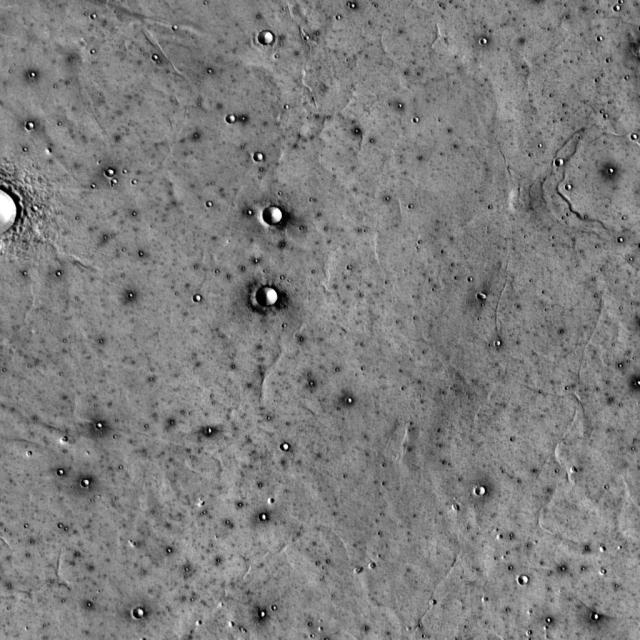crater: (557, 126, 640, 241), (1, 190, 18, 240), (256, 287, 278, 307), (263, 206, 284, 224), (259, 31, 274, 45), (136, 609, 148, 620), (476, 486, 486, 496), (225, 114, 235, 123), (254, 153, 264, 161), (81, 479, 90, 487), (281, 443, 290, 451), (519, 576, 528, 584), (106, 168, 115, 176), (477, 293, 485, 301), (193, 294, 201, 302), (556, 159, 564, 166), (26, 122, 34, 129), (592, 614, 599, 620), (96, 424, 102, 429)
